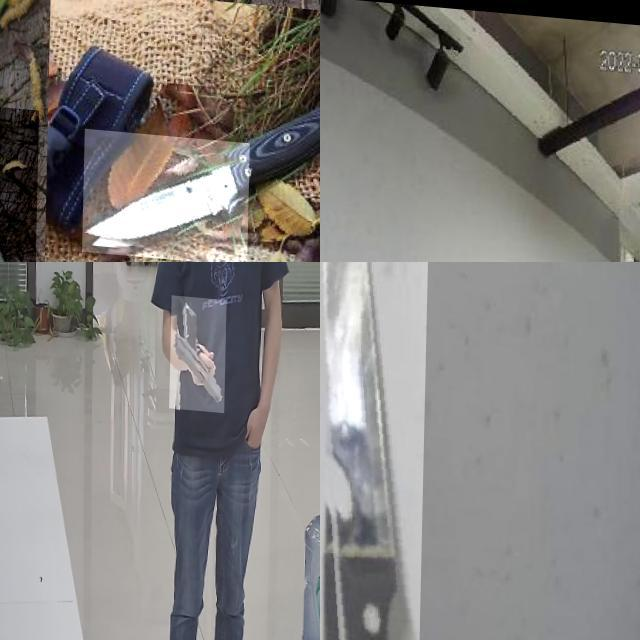-: (320, 262, 431, 640), (85, 122, 252, 256), (0, 92, 91, 262), (190, 0, 320, 92), (0, 0, 86, 94)
gun-knife-thesis - v11 Yolov5 augmented: (170, 291, 228, 408)
